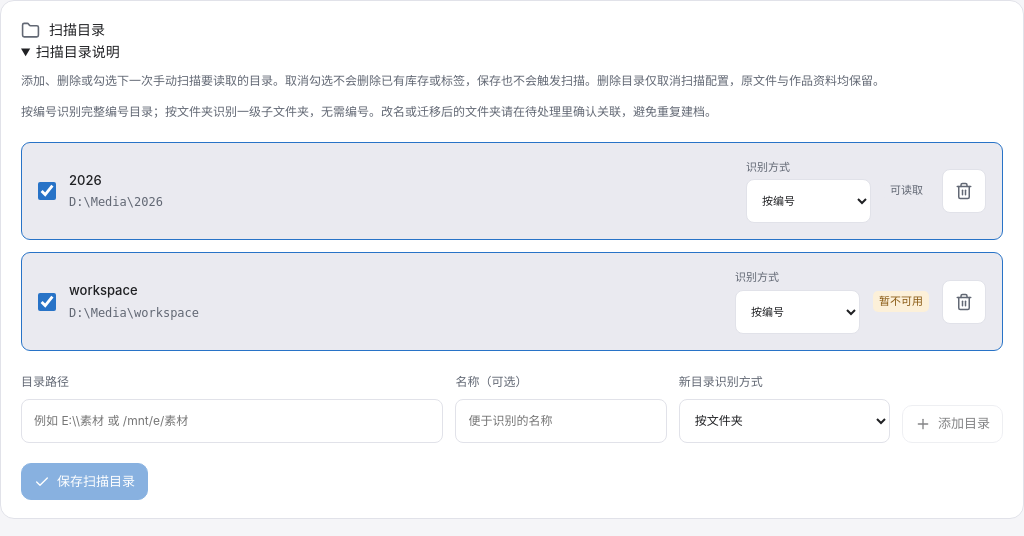
Scenario: persisted scan directory selection › preserves the directory draft and allows retry when active tasks temporarily prevent saving
Click the button named "删除目录 2026". click: (964, 191)
box: top-left (942, 169), bottom-right (986, 213)
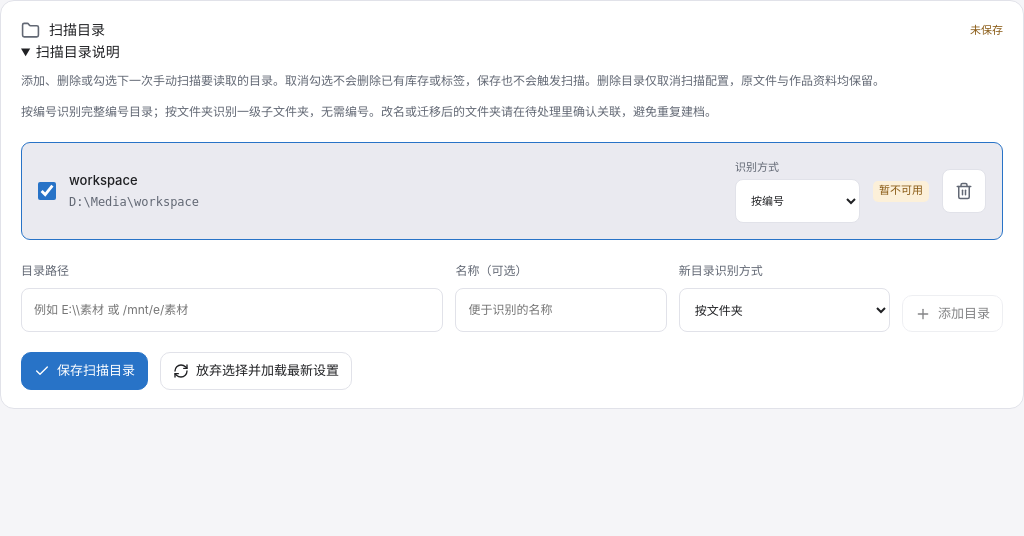
Click the button "保存扫描目录". click: (84, 371)
box: top-left (21, 352), bottom-right (148, 390)
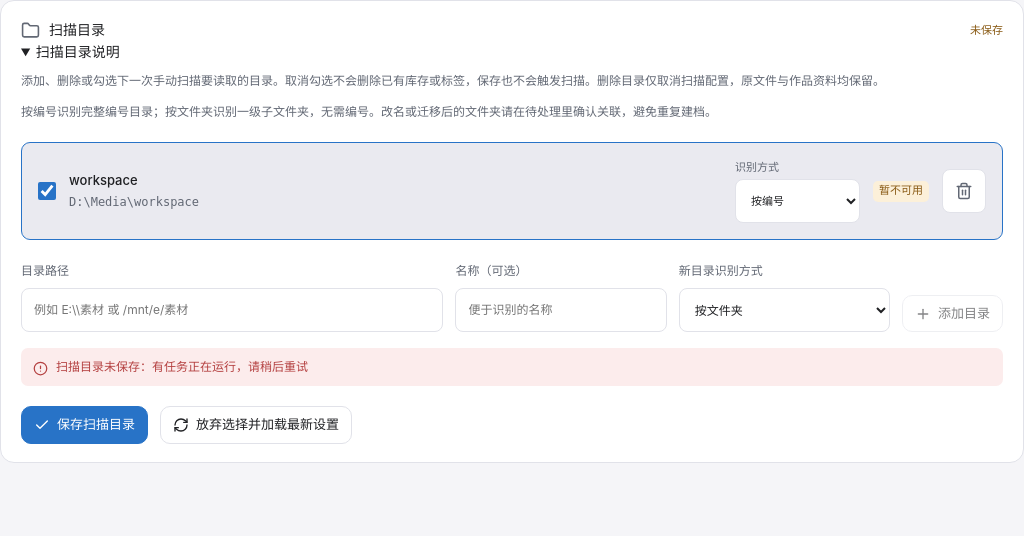
expect the button "保存扫描目录" is enabled: met
expect the text "扫描目录未保存：有任务正在运行，请稍后重试" is shown: met, box top-left (21, 348), bottom-right (1003, 386)
Click the button "保存扫描目录". click: (84, 425)
box: top-left (21, 406), bottom-right (148, 444)
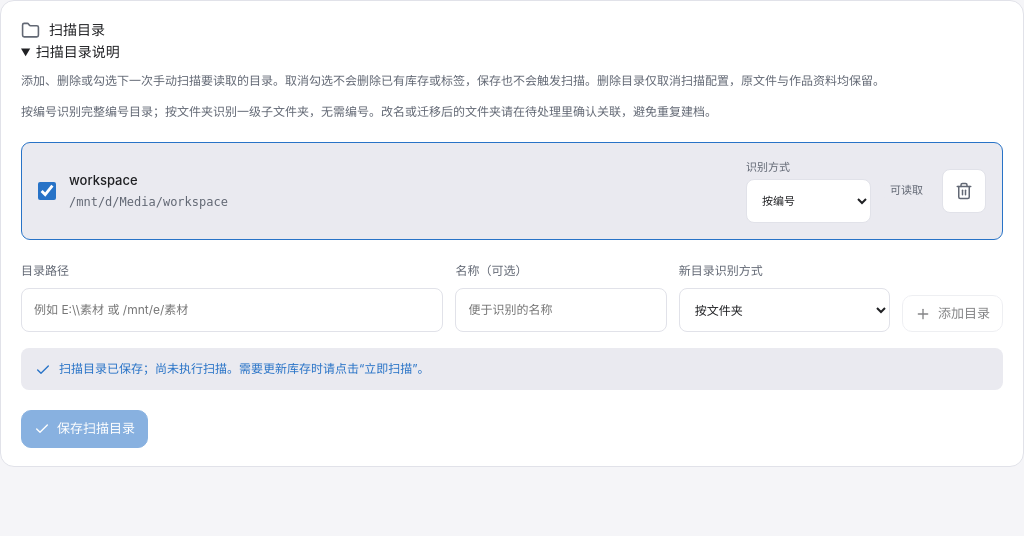
expect the text "扫描目录已保存；尚未执行扫描。需要更新库存时请点击“立即扫描”。" is shown: met, box top-left (21, 348), bottom-right (1003, 390)
